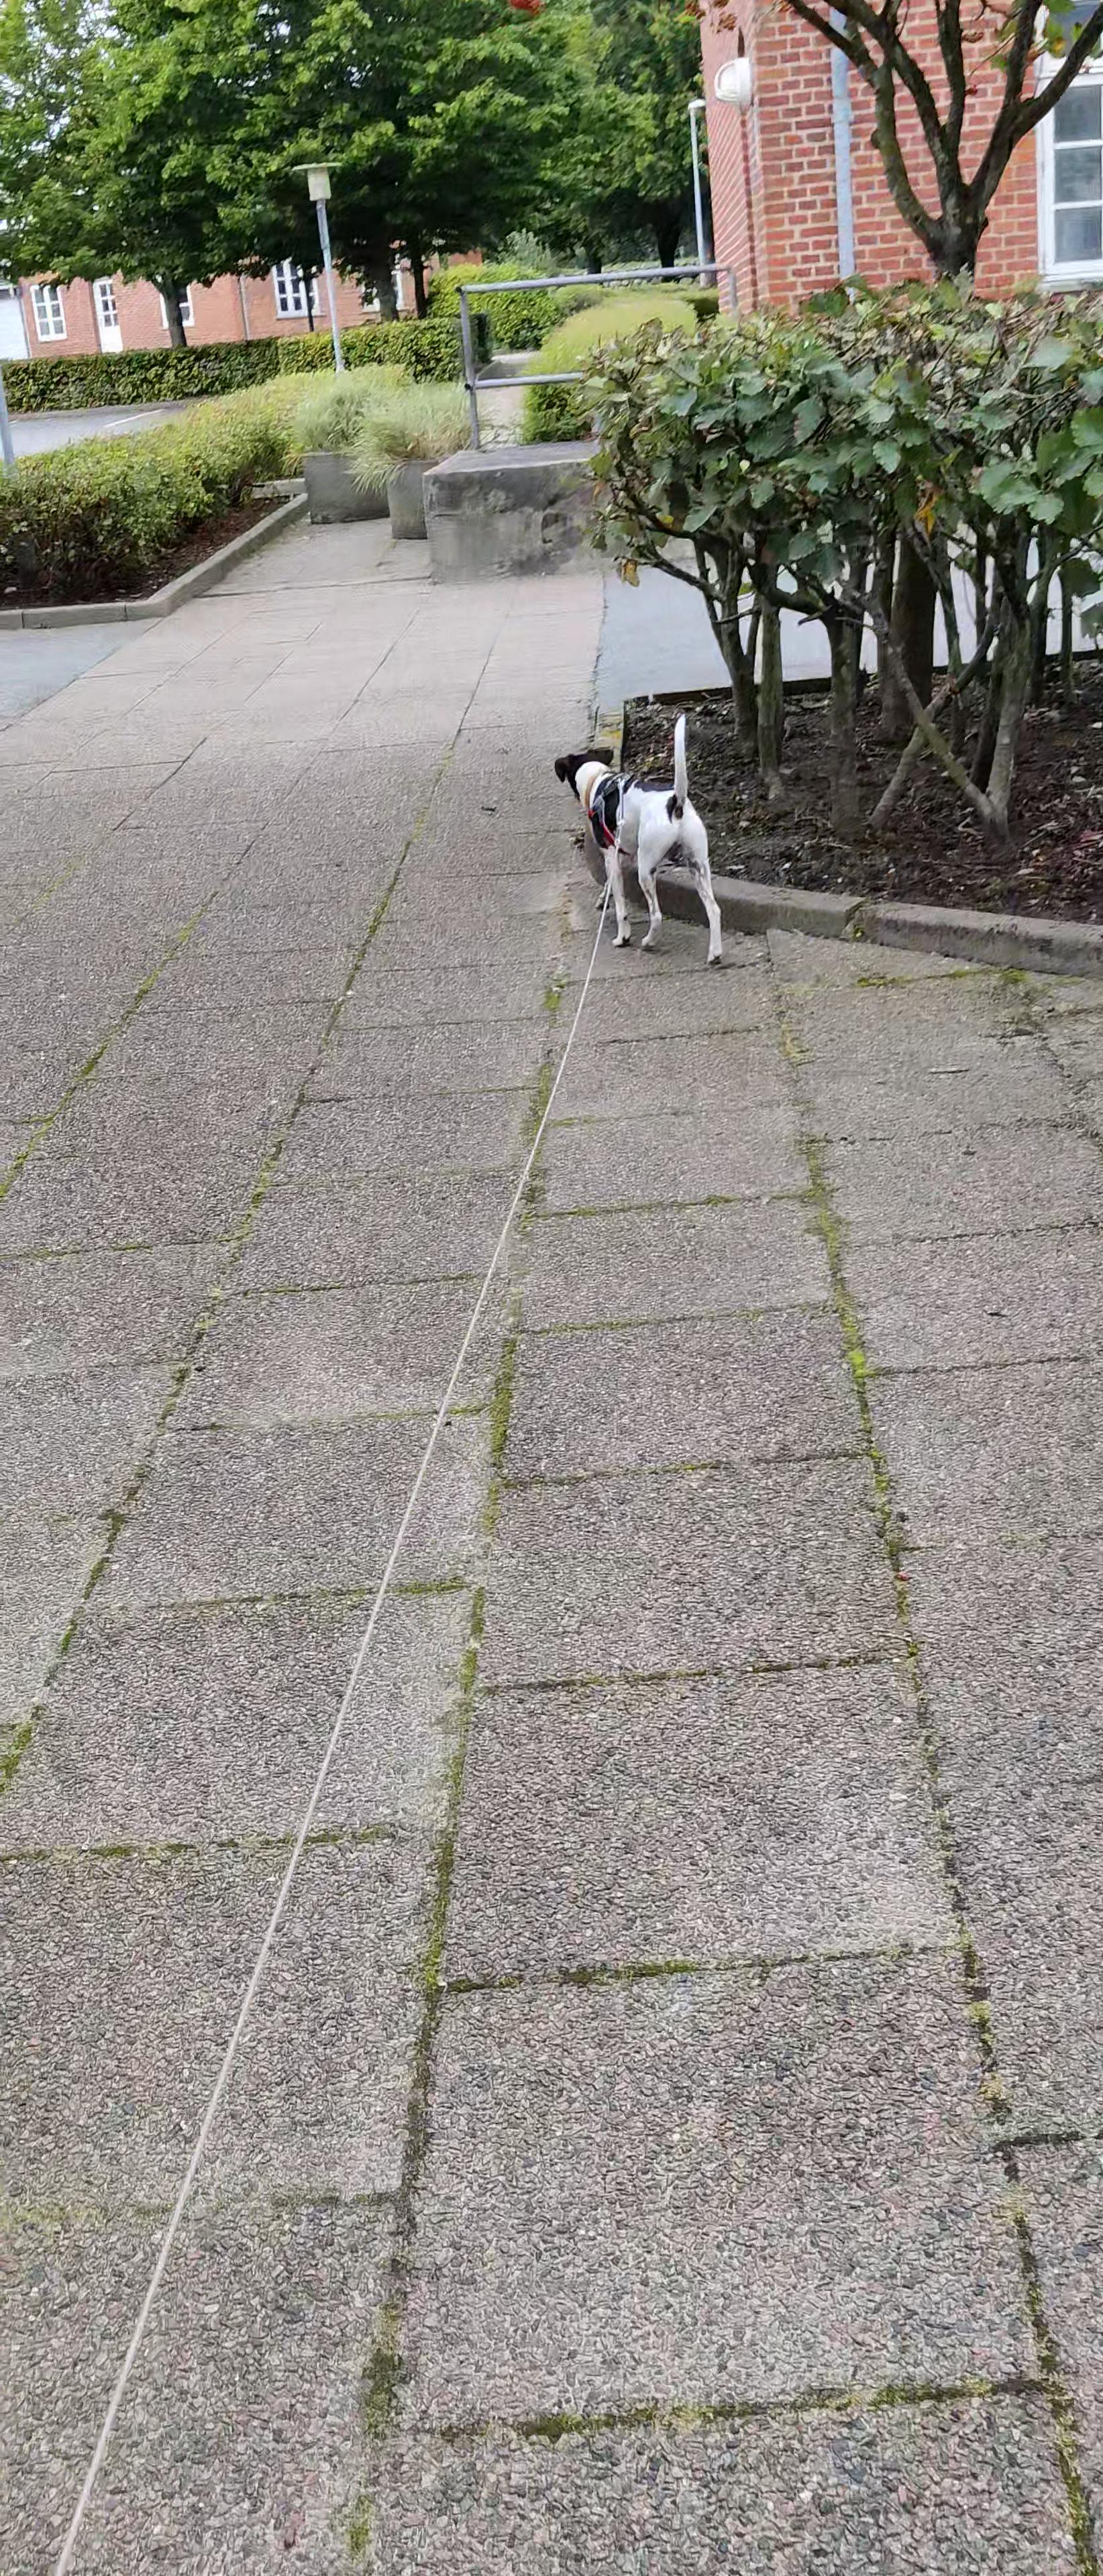Dog: (547, 705, 727, 968)
